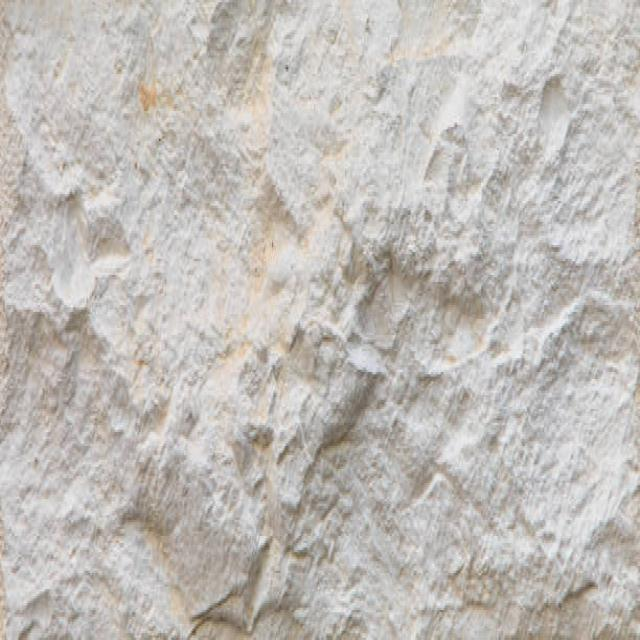Metamorphic: (2, 7, 636, 640)
